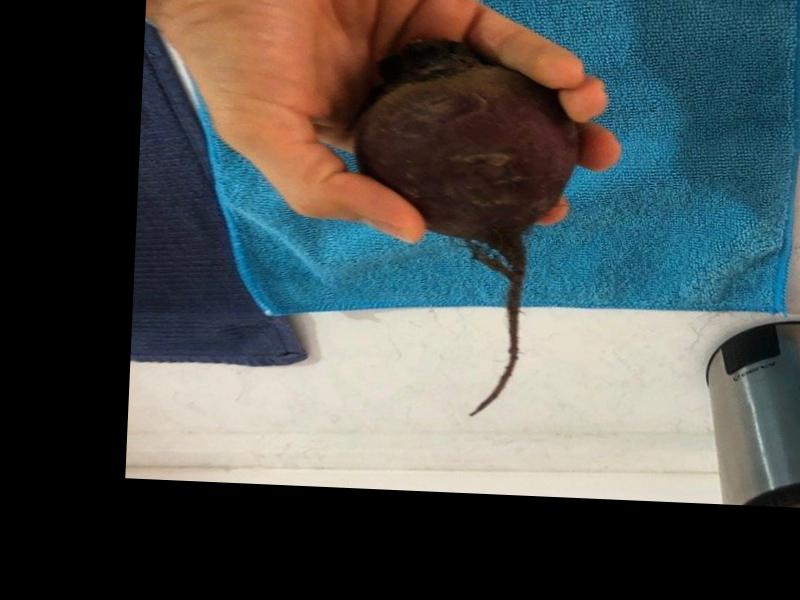Beet: (342, 35, 585, 419)
